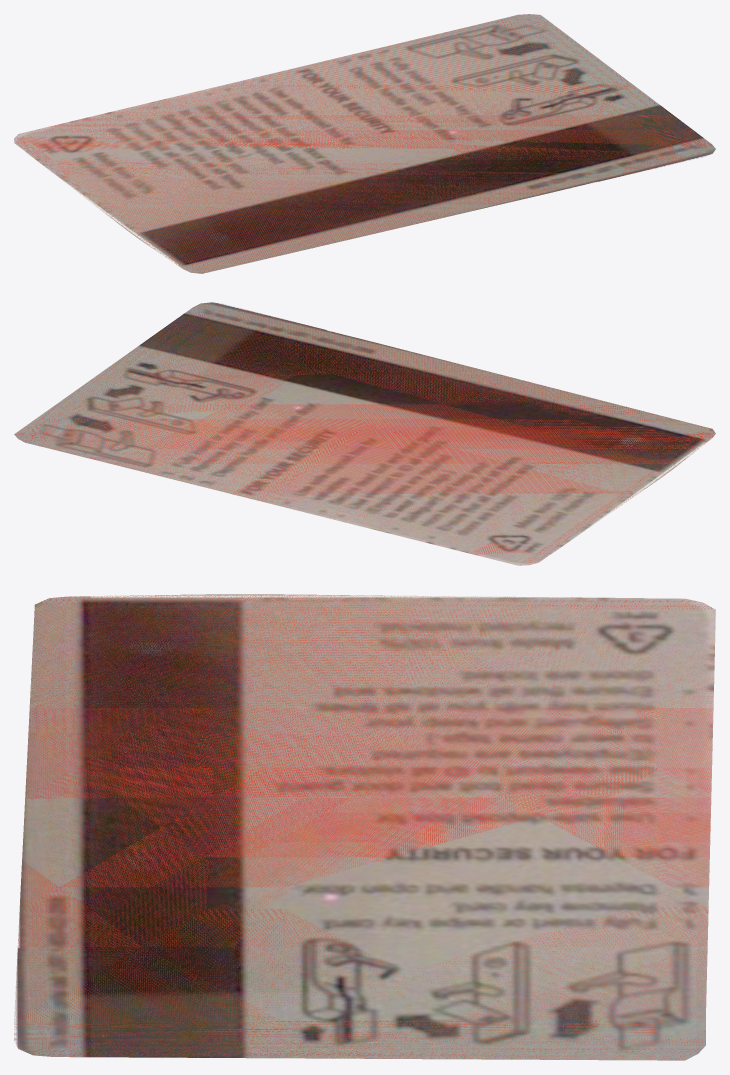
The picture shows the model from 3 angles, top to bottom: view 1: azimuth 30°, elevation 25°; view 2: azimuth 150°, elevation 25°; view 3: azimuth 270°, elevation 25°; orthographic projection. The views are drawn at different scales.
Visible parts, largest first — view 1: SketchUp; view 2: SketchUp; view 3: SketchUp.
Boxes of the visible parts, bbox=[...] form: SketchUp: bbox=[14, 14, 715, 273]; SketchUp: bbox=[14, 302, 715, 565]; SketchUp: bbox=[14, 594, 715, 1060].
Bounding box in the file's own units: 3.28 × 2.08 × 0.
2 materials, 2 textured.
